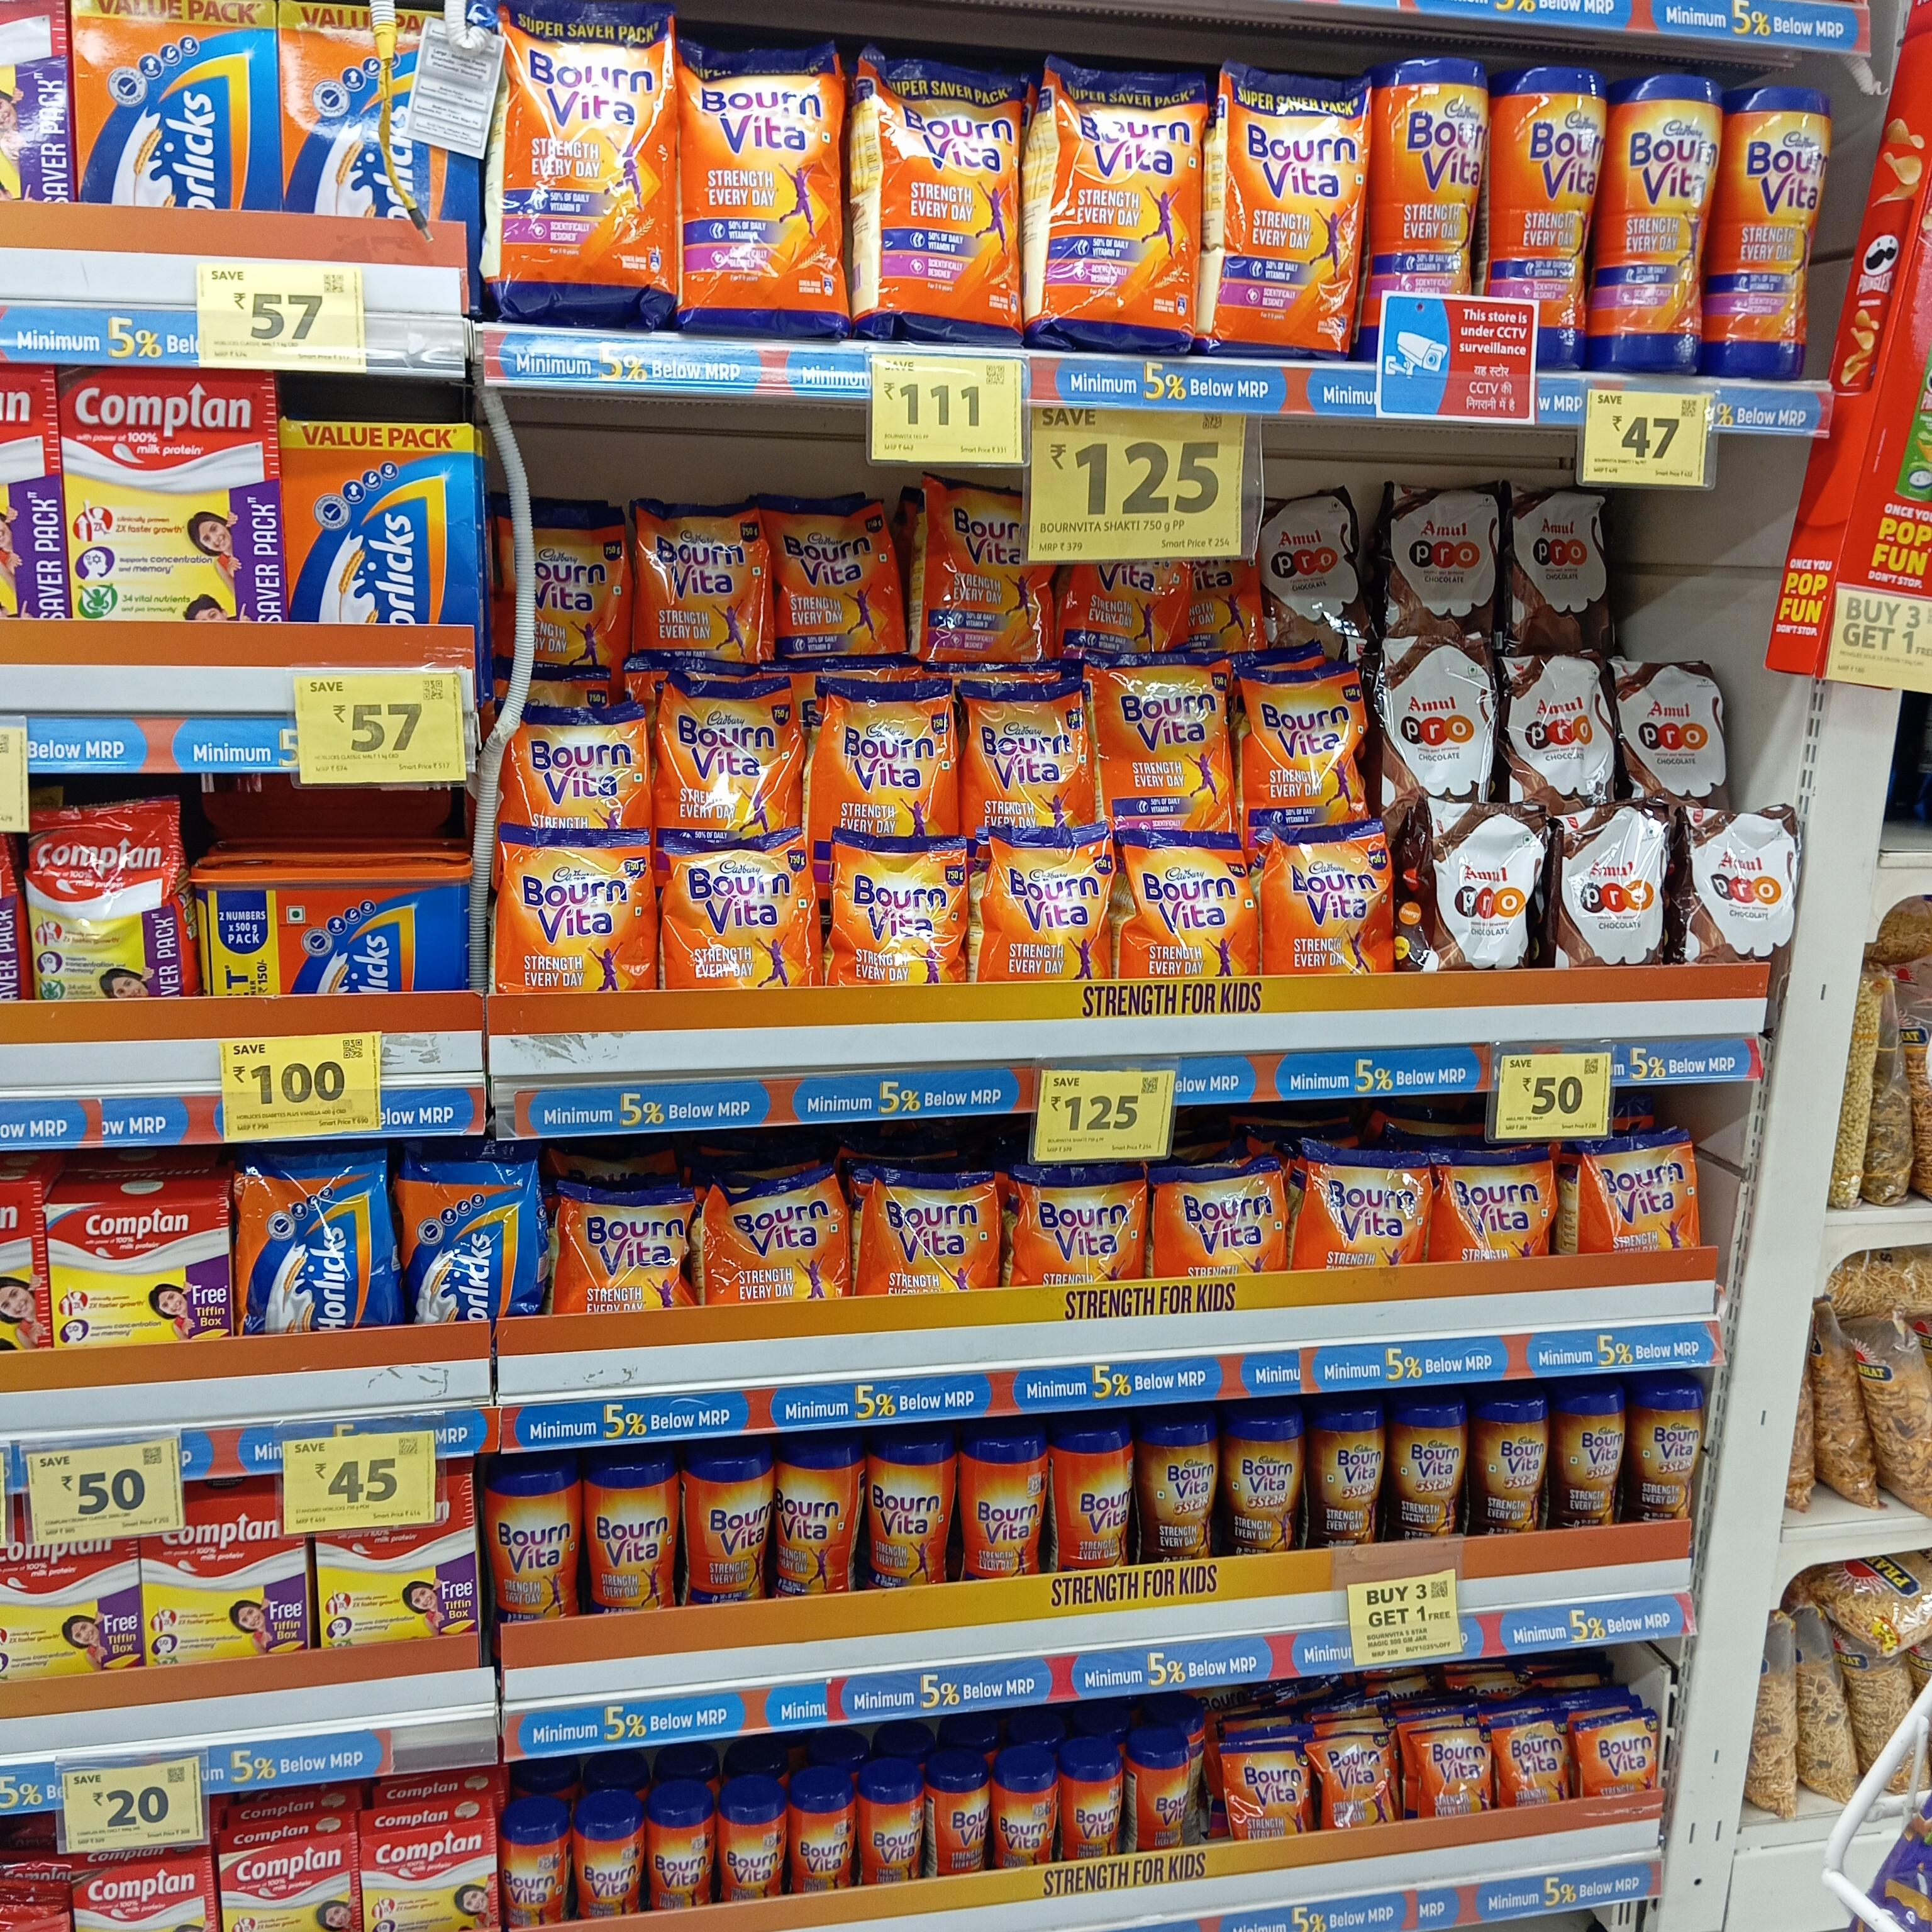BOURN_VITA_1_KG_JAR: (1714, 76, 1819, 382), (1605, 67, 1709, 372), (1373, 55, 1490, 297), (1495, 62, 1587, 368)
BOURN_VITA_1_KG_POUCH: (490, 4, 671, 299), (679, 28, 840, 318), (867, 42, 1021, 341), (1047, 51, 1196, 347), (1221, 69, 1364, 359)
BOURN_VITA_200_G_JAR: (497, 1799, 564, 1932), (789, 1773, 855, 1900), (648, 1790, 713, 1916), (573, 1803, 640, 1920), (862, 1776, 925, 1893), (720, 1801, 786, 1909), (994, 1757, 1054, 1868), (1065, 1759, 1127, 1865), (1138, 1744, 1194, 1859), (936, 1767, 991, 1875)
BOURN_VITA_500_G_JAR: (483, 1463, 575, 1626), (961, 1424, 1047, 1585), (582, 1458, 667, 1617), (869, 1430, 954, 1585), (773, 1438, 851, 1601), (688, 1449, 770, 1603), (1056, 1422, 1134, 1573)
BOURN_VITA_500_G_POUCH: (856, 1166, 996, 1292), (561, 1184, 692, 1313), (1016, 1161, 1148, 1286), (713, 1182, 853, 1300), (1307, 1141, 1428, 1265), (1159, 1166, 1288, 1277), (1583, 1136, 1700, 1258), (1442, 1150, 1559, 1265)
BOURN_VITA_750_G_POUCH: (499, 826, 653, 989), (918, 474, 1047, 656), (663, 833, 809, 991), (1106, 667, 1230, 833), (1120, 828, 1253, 982), (660, 678, 793, 830), (633, 511, 766, 662), (819, 676, 948, 830), (985, 824, 1108, 984), (497, 515, 623, 669), (835, 835, 964, 984), (1242, 671, 1364, 826), (1276, 830, 1396, 982), (778, 502, 897, 653), (964, 681, 1088, 823), (504, 706, 648, 826)
BOURN_VITA_75_G_POUCH: (1226, 1744, 1315, 1842), (1316, 1732, 1394, 1829), (1419, 1725, 1495, 1819), (1576, 1714, 1660, 1799), (1500, 1714, 1573, 1808)
BOURN_VITA_FIVE_STAR_MAGIC_500_G_JAR: (1139, 1408, 1219, 1566), (1311, 1399, 1385, 1555), (1553, 1384, 1628, 1536), (1226, 1408, 1299, 1559), (1391, 1399, 1467, 1543), (1474, 1391, 1548, 1536), (1633, 1382, 1700, 1536)
COMPLAN_CHOCOLATE_1_KG_PACK: (69, 359, 276, 621)
COMPLAN_CREAMY_CLASSIC_500_G_PACK: (51, 1198, 221, 1345)
COMPLAN_RC_POUCH_700_GMS_12: (32, 803, 191, 1008)
HORLICK_CLASSIC_MALT_500_G_PACK: (283, 418, 478, 639), (73, 0, 276, 211), (283, 0, 460, 223)
HORLICK_CLASSIC_MALT_750_G_POUCH: (237, 1154, 387, 1332), (403, 1162, 533, 1327)
HORLICK_MALT_1_KG_CONTAINER: (198, 867, 478, 998)
